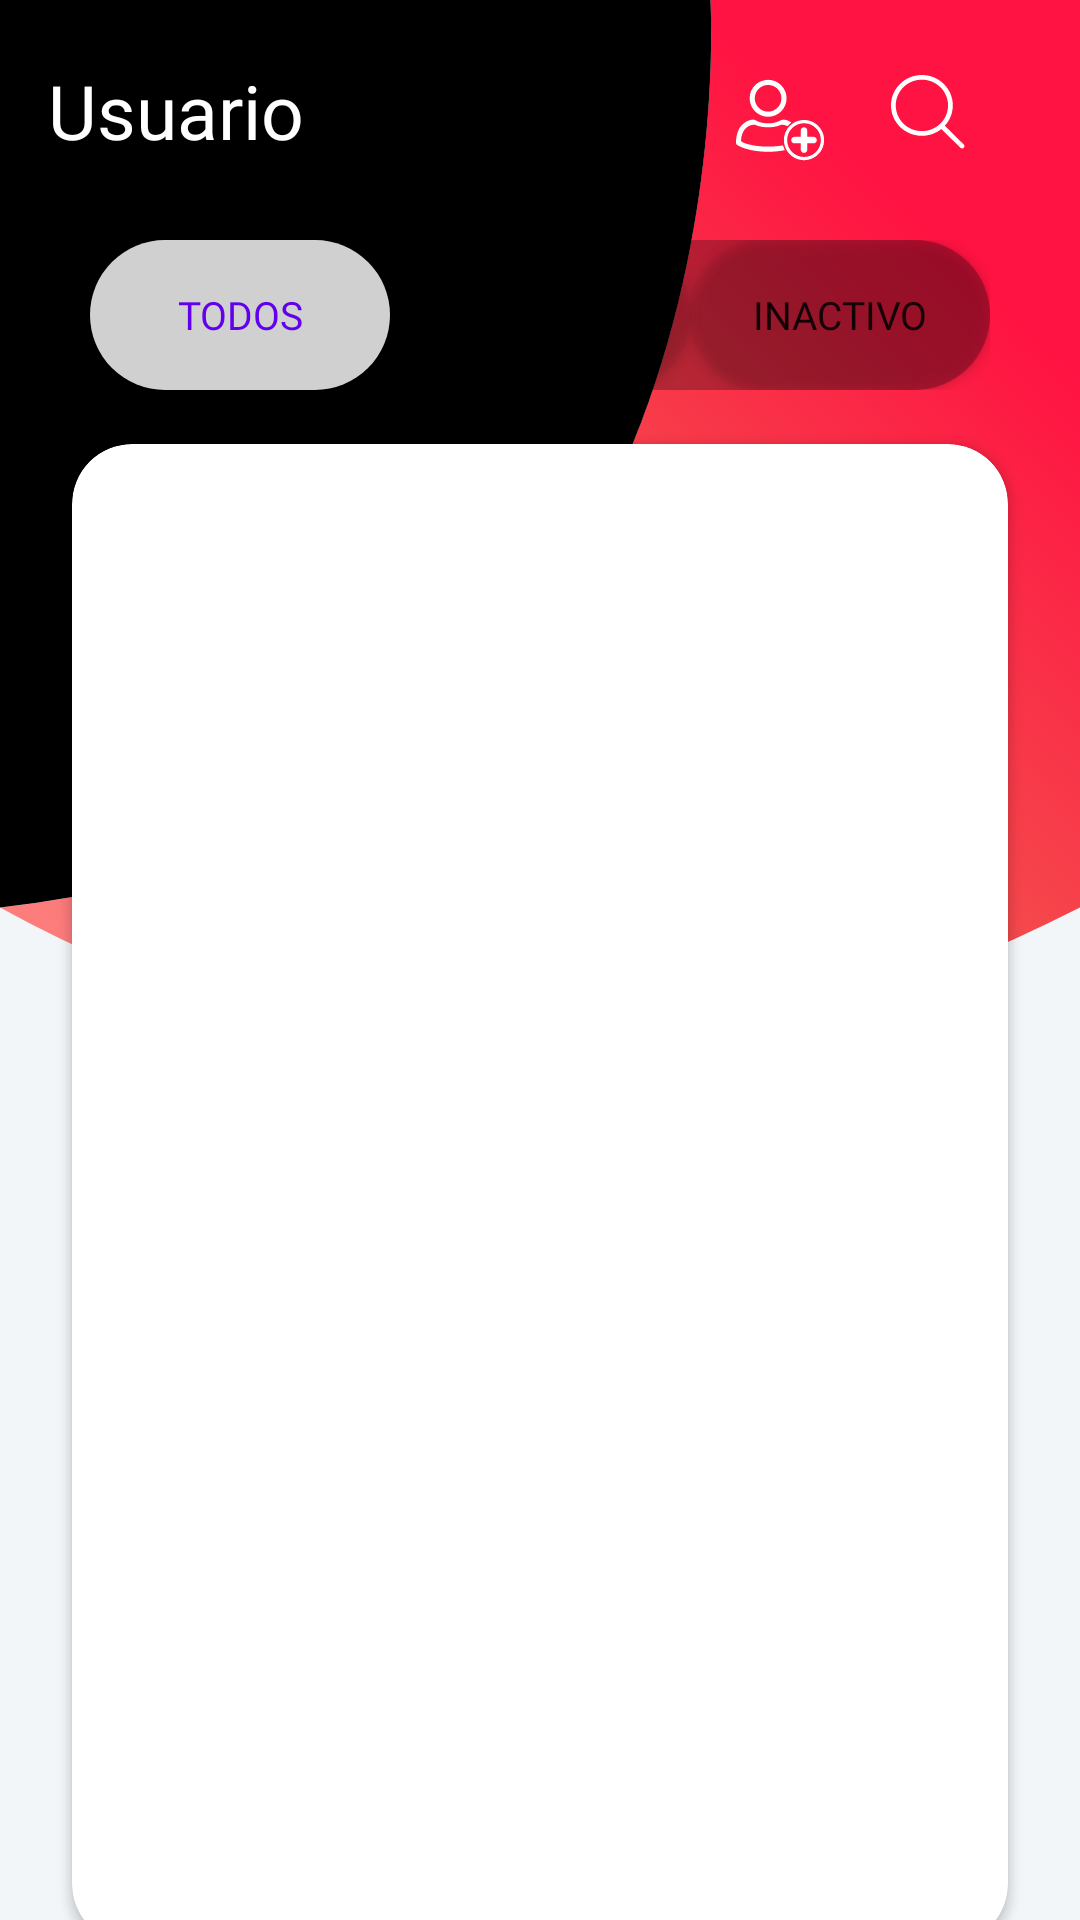

Screen size 1080px×1920px. Icon name, then its box in pixels as box(x1, y1, x2, y2):
buscar: box(891, 75, 965, 149)
user: box(736, 79, 824, 161)
